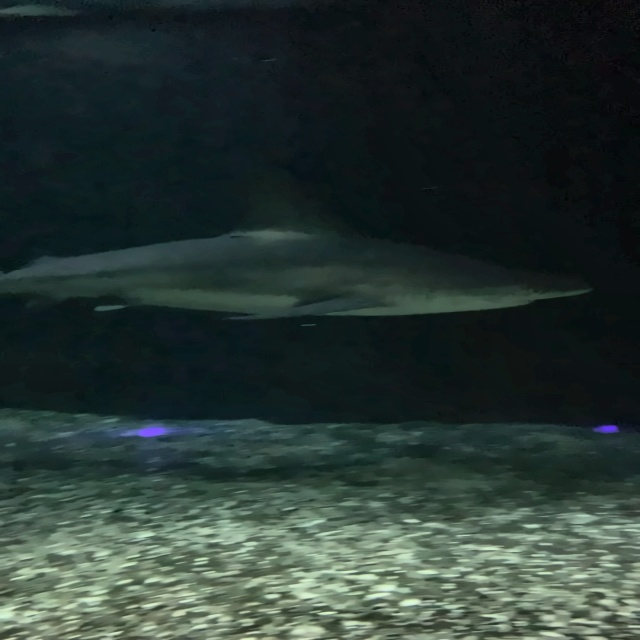shark: (0, 188, 595, 320)
